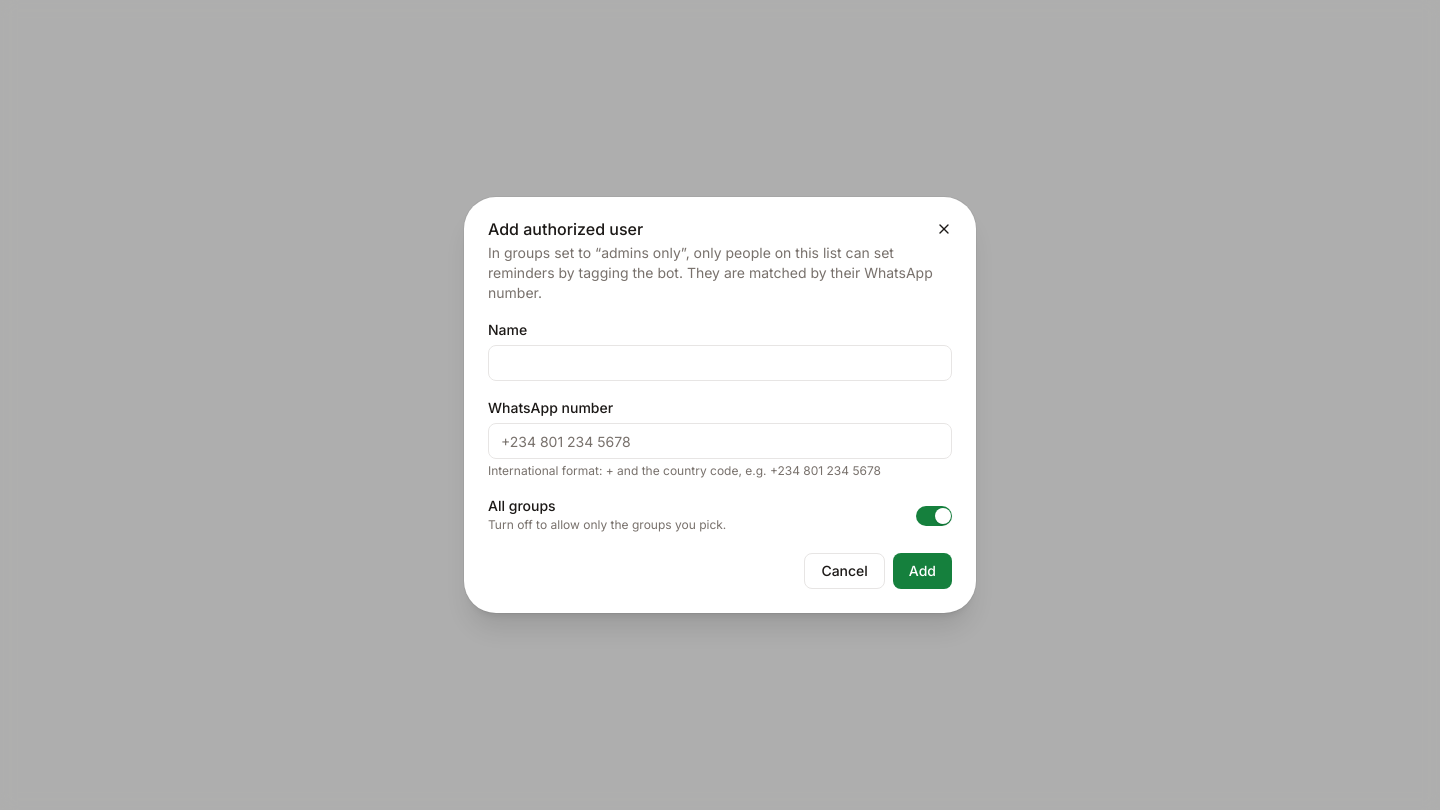
AuthorizedUserDialog › needs a valid number and, without all groups, at least one group
The width and height of the screenshot is (1440, 810).
Type "Tunde" into the field labelled "Name" at [720, 363], box [488,345,952,381]
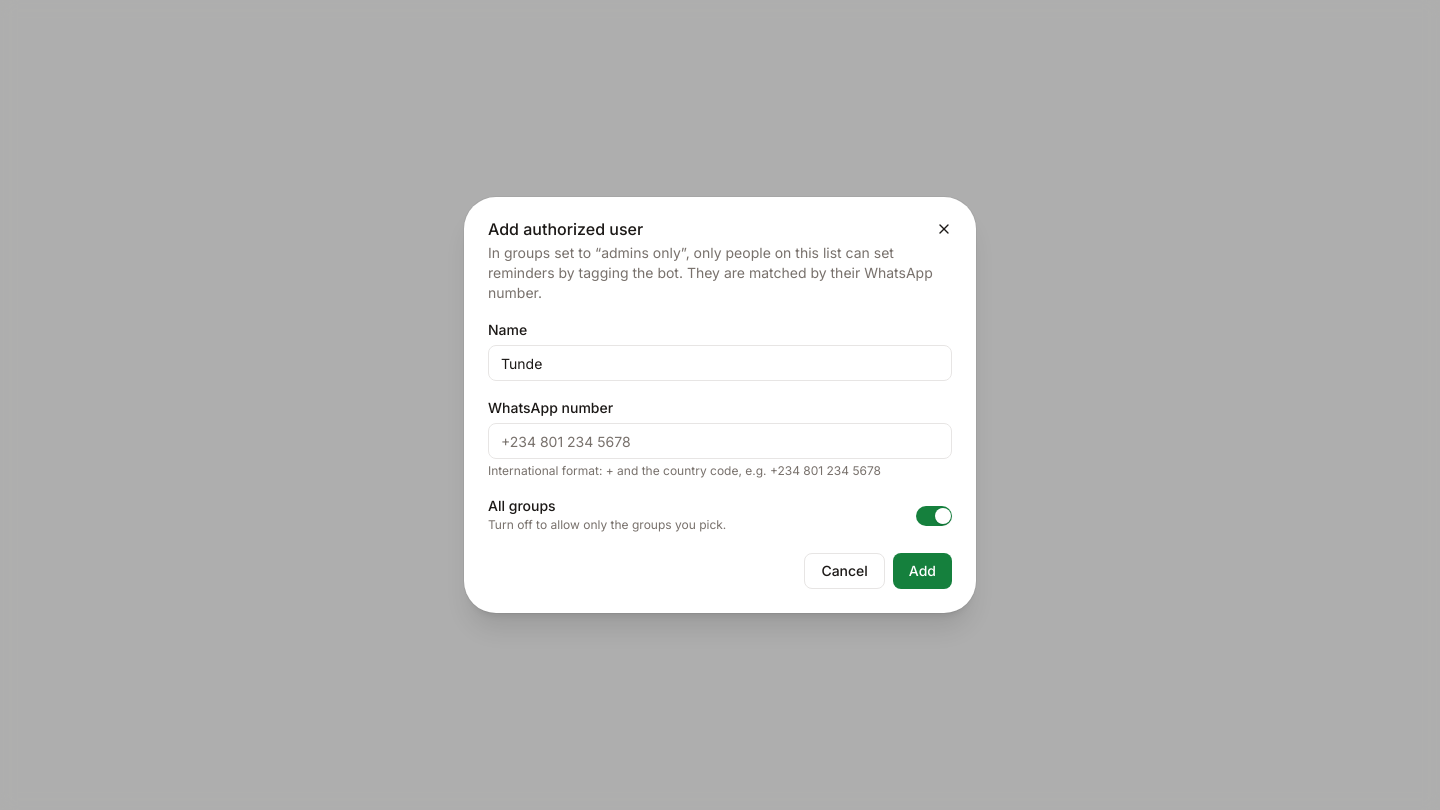
Type "0801234" into the field labelled "WhatsApp number" at [720, 441], box [488,423,952,459]
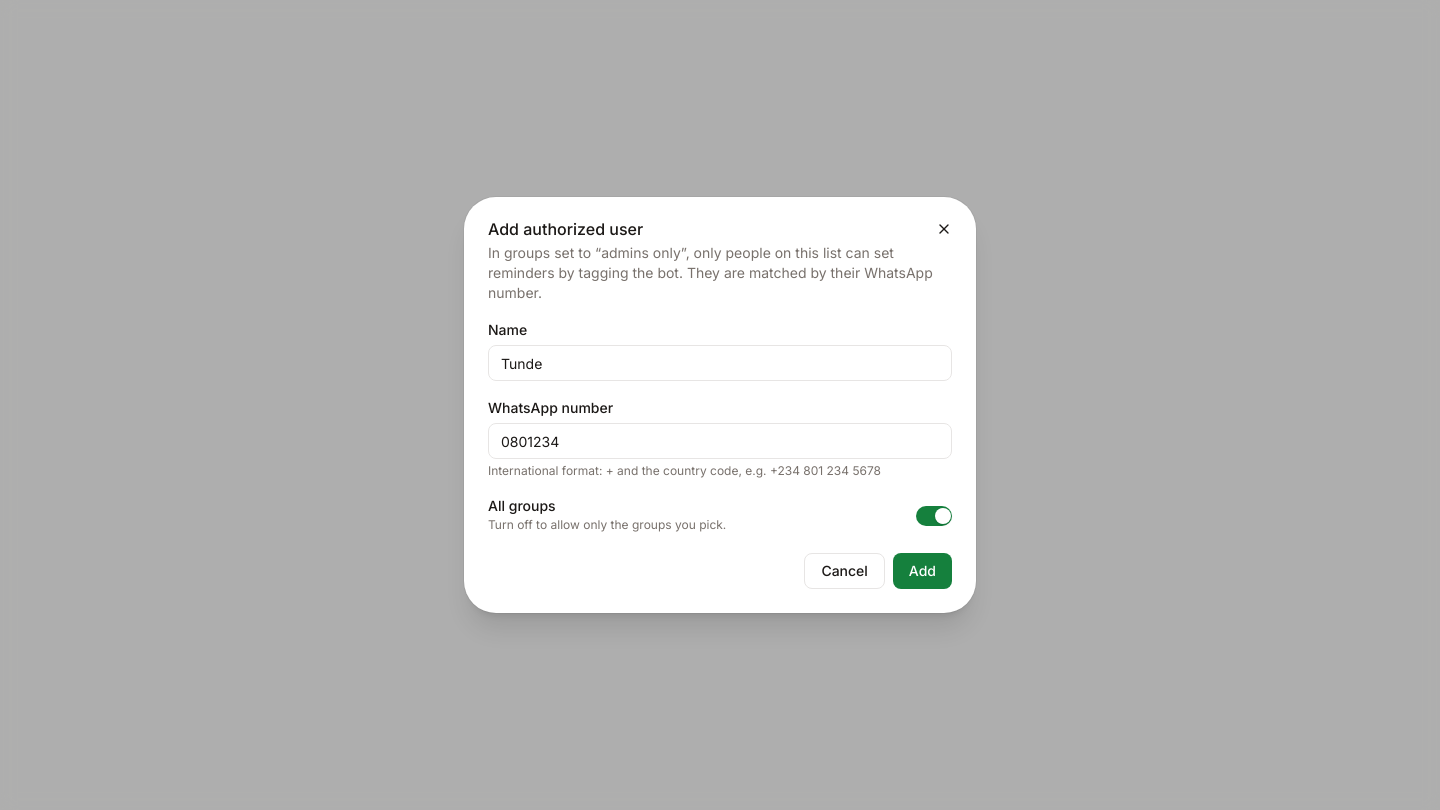
Click the button "Add" at [922, 571], box [893,553,952,589]
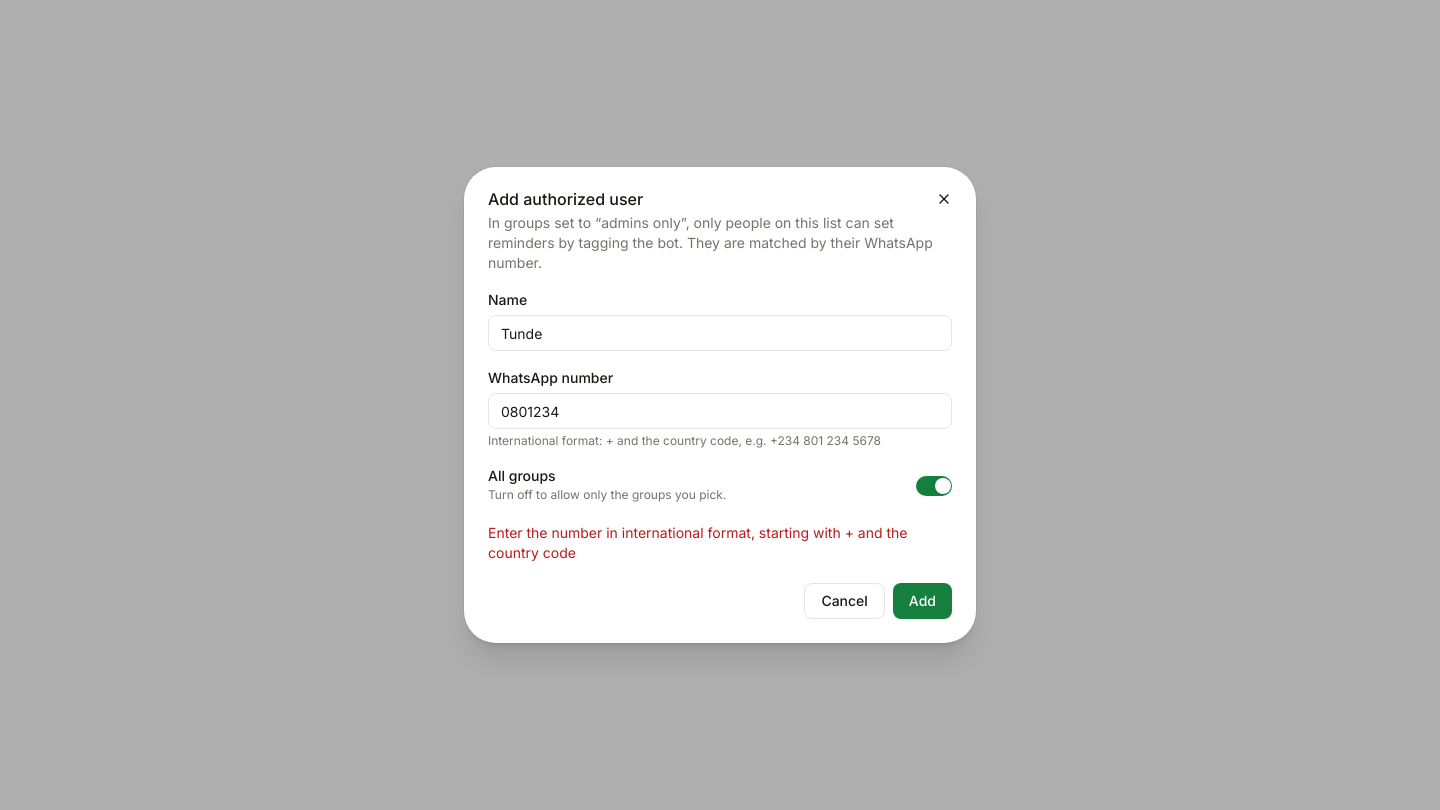
Expected: the text "in international format, starting with +" is shown, [488,524,908,561]
Replace the text in the field labelled "WhatsApp number" with "+2348012345678" at [720, 411], box [488,393,952,429]
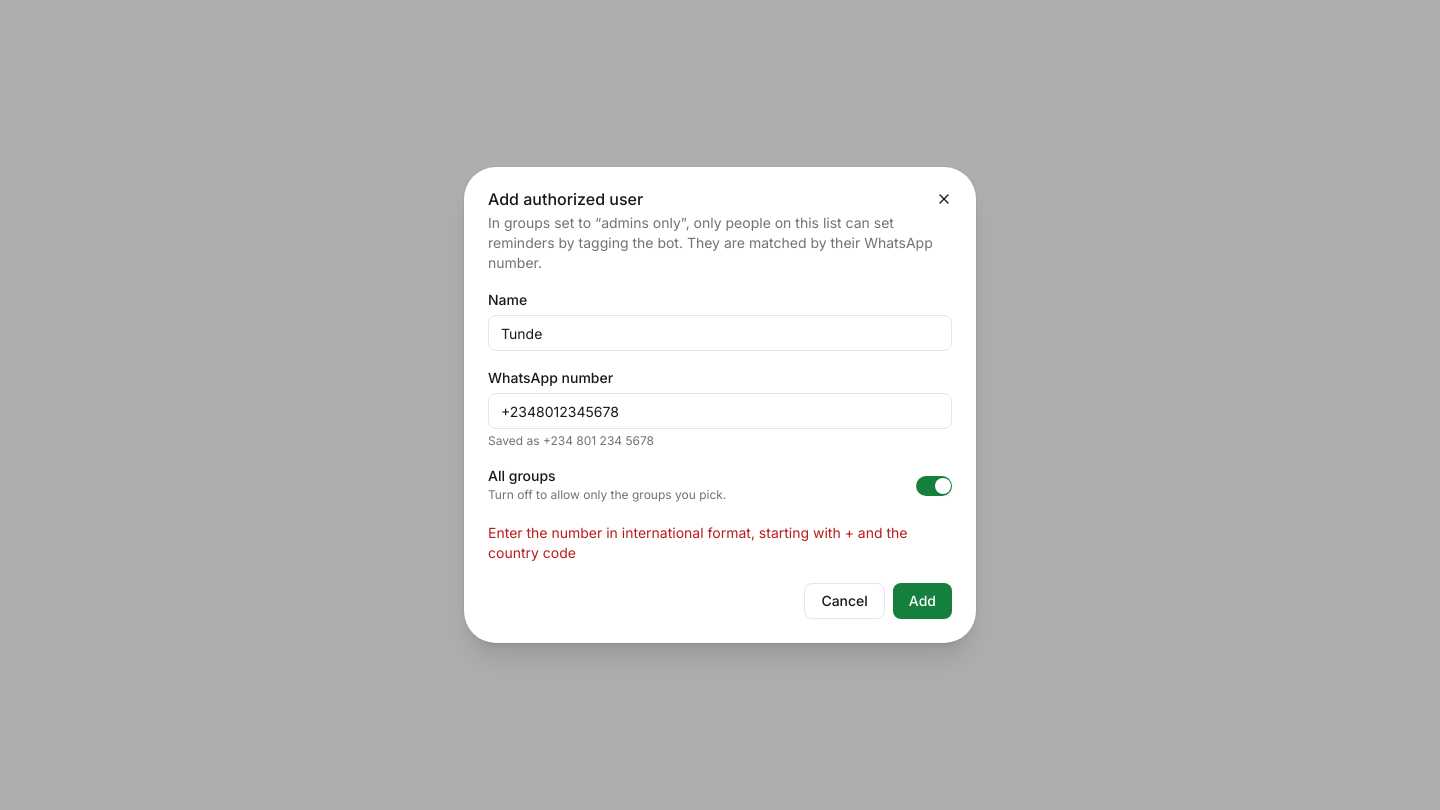
Click the switch named "All groups" at [934, 486], box [916,476,952,496]
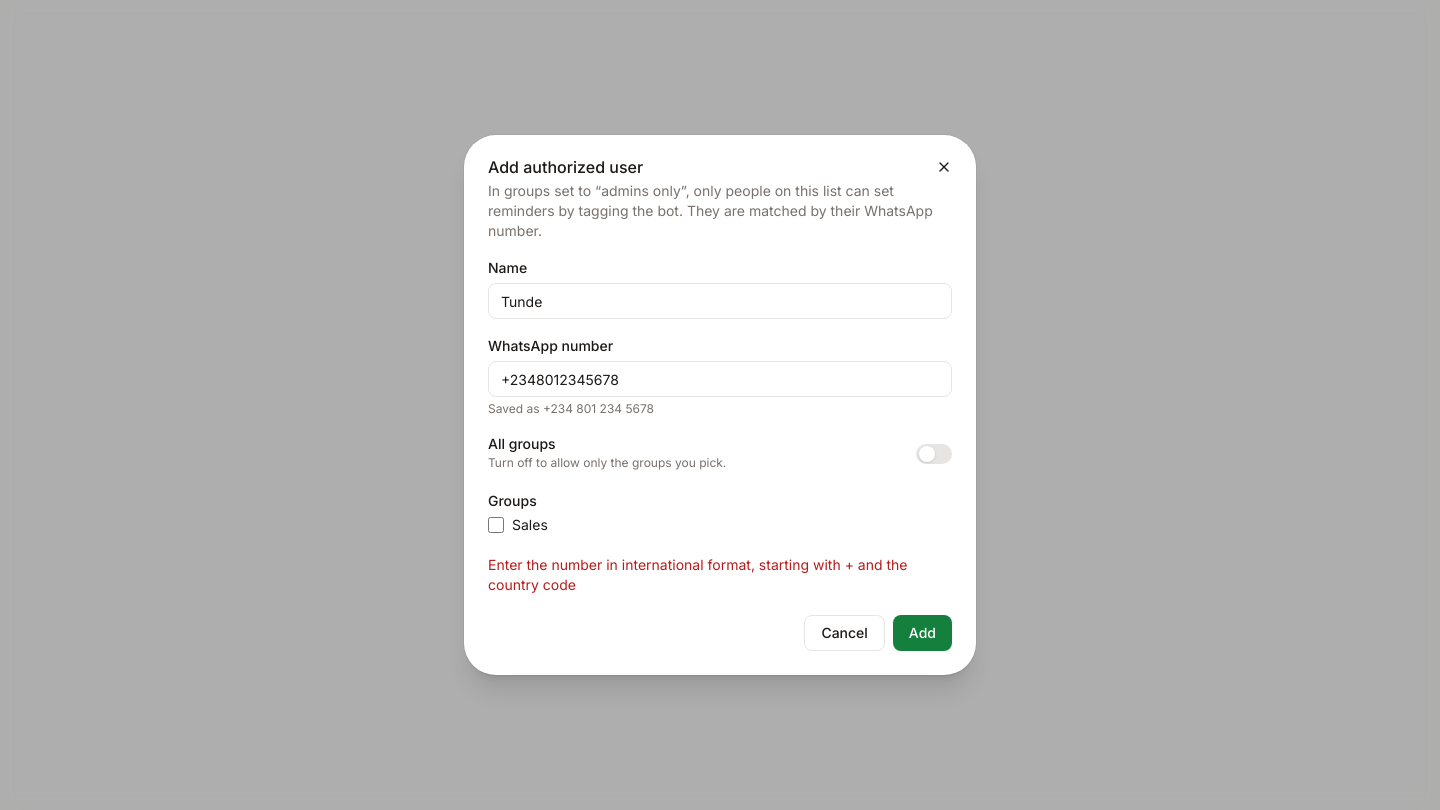
Click the button "Add" at [922, 633], box [893,615,952,651]
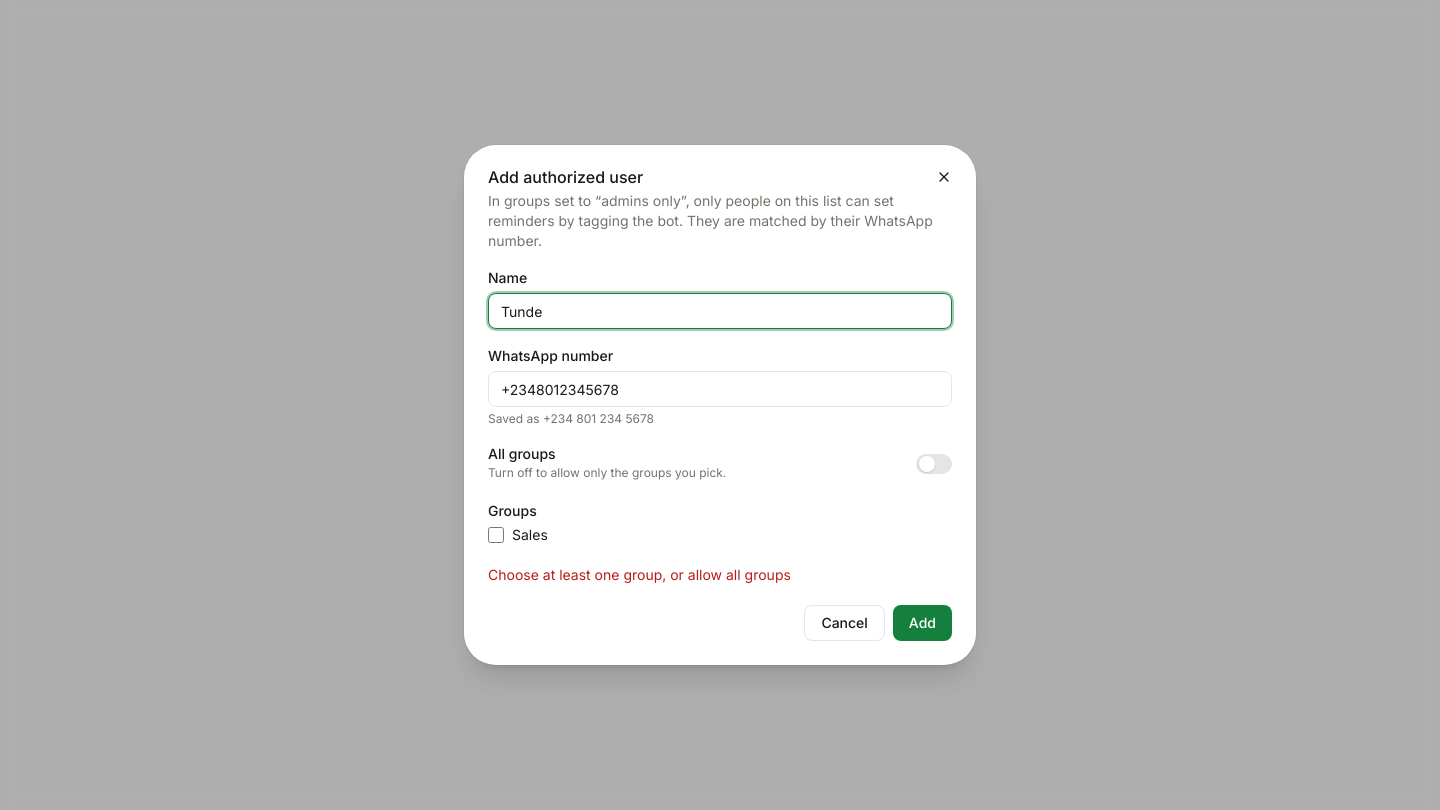
Expected: the text "Choose at least one group, or allow all groups" is shown, [488,566,791,583]
